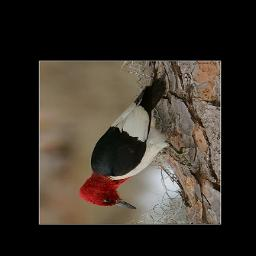Woodpecker: (76, 70, 198, 212)
